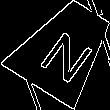N_NE: (31, 17, 97, 81)
